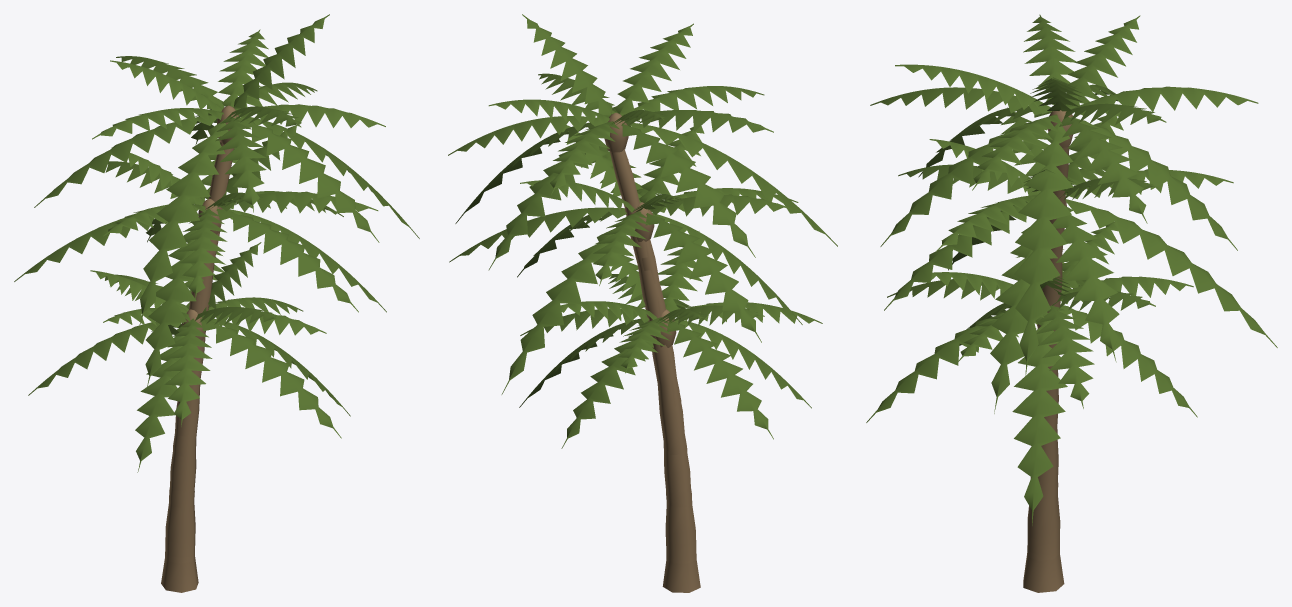
The model's file is palm.glb.
The picture shows the model from 3 angles, left to right: view 1: azimuth 30°, elevation 25°; view 2: azimuth 150°, elevation 25°; view 3: azimuth 270°, elevation 25°; orthographic projection. The views are drawn at different scales.
Visible parts, largest first — view 1: palm_v2, palm_v0, palm_v1; view 2: palm_v2, palm_v0, palm_v1; view 3: palm_v2, palm_v0, palm_v1.
Part boxes in pixels (left/top/right/bottom): palm_v2: left=34, top=14, right=419, bottom=592; palm_v0: left=14, top=122, right=386, bottom=557; palm_v1: left=28, top=242, right=350, bottom=563; palm_v2: left=448, top=14, right=837, bottom=592; palm_v0: left=449, top=125, right=802, bottom=557; palm_v1: left=519, top=231, right=822, bottom=589; palm_v2: left=870, top=14, right=1258, bottom=592; palm_v0: left=884, top=107, right=1277, bottom=591; palm_v1: left=866, top=222, right=1197, bottom=592.
Bounding box in the file's own units: 10.85 × 15.53 × 9.83.
